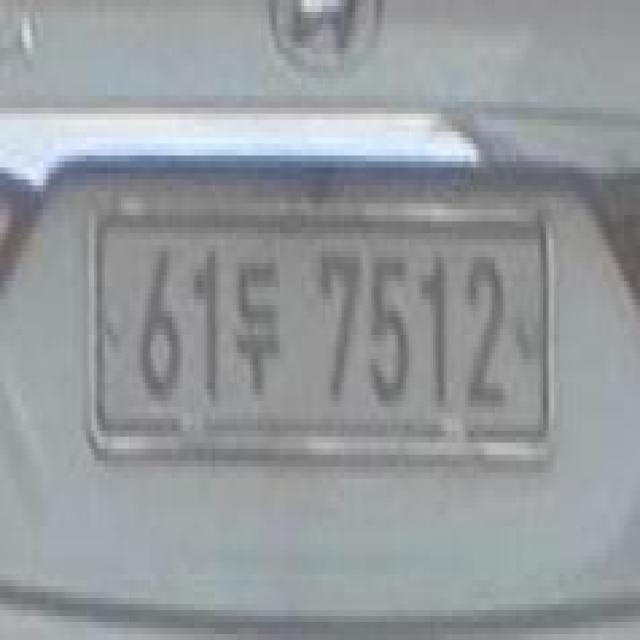1: (414, 238, 456, 420), (187, 241, 226, 408)
2: (460, 237, 511, 422)
5: (368, 238, 412, 411)
6: (132, 236, 184, 412)
7: (314, 236, 364, 412)
du: (234, 243, 286, 413)
license_plate: (82, 181, 559, 484)
